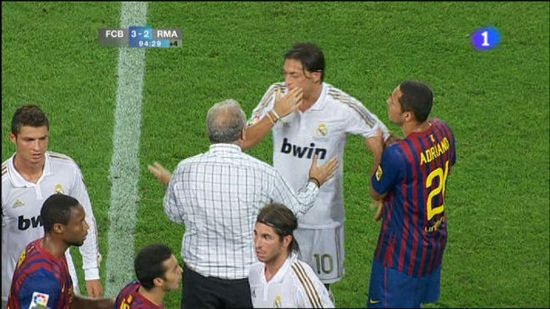face: (253, 221, 280, 262), (283, 60, 310, 98), (20, 128, 49, 163), (387, 84, 405, 123), (71, 210, 89, 246), (164, 258, 183, 291)
